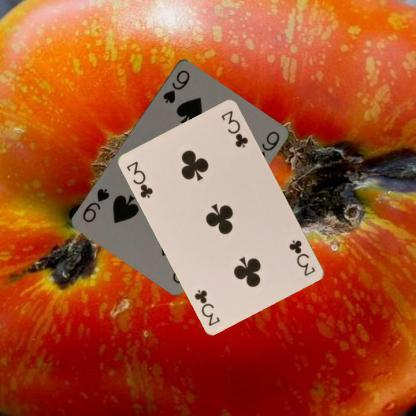3c: (124, 158, 155, 200), (286, 237, 317, 277)
9s: (160, 67, 191, 105)
